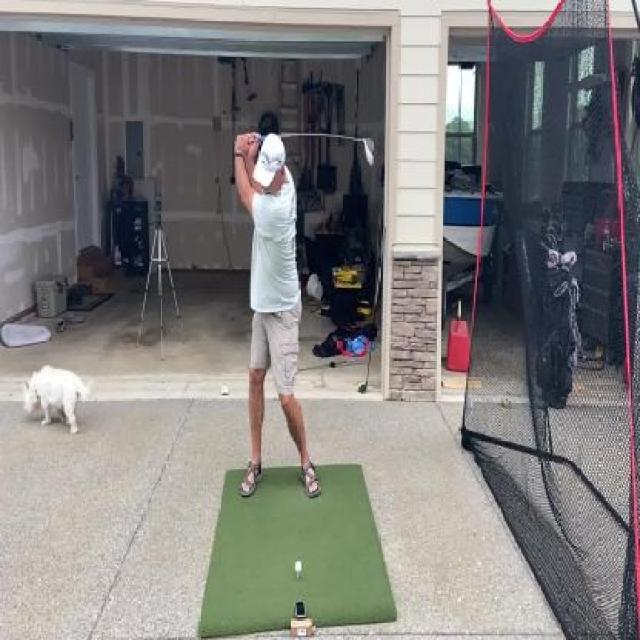club head: (359, 136, 375, 169)
